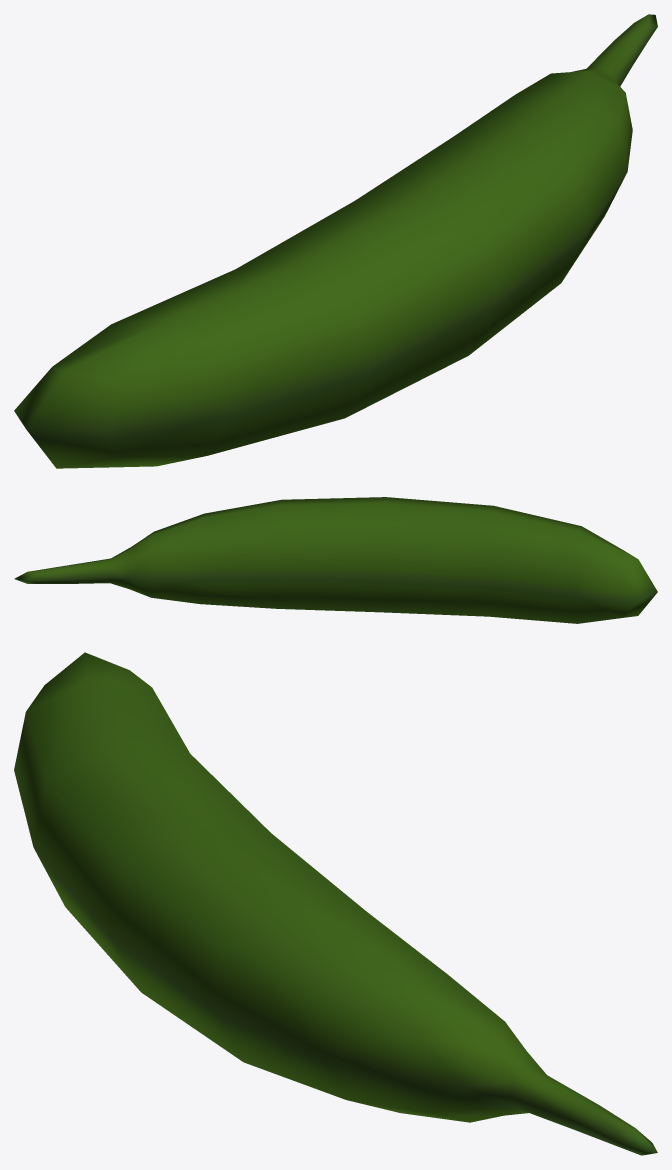
The model's file is GreenBean (7).fbx.
3 views of the same model, one above another, from view 1: azimuth 30°, elevation 25°; view 2: azimuth 150°, elevation 25°; view 3: azimuth 270°, elevation 25° (orthographic). The views are drawn at different scales.
Parts seen in each view (by area): view 1: Apple (4); view 2: Apple (4); view 3: Apple (4).
Part boxes in pixels (left/top/right/bottom): Apple (4): left=14, top=14, right=657, bottom=468; Apple (4): left=14, top=497, right=657, bottom=623; Apple (4): left=14, top=652, right=657, bottom=1155.
Size of the model in its own units: 0.944 by 0.1772 by 0.5498.
